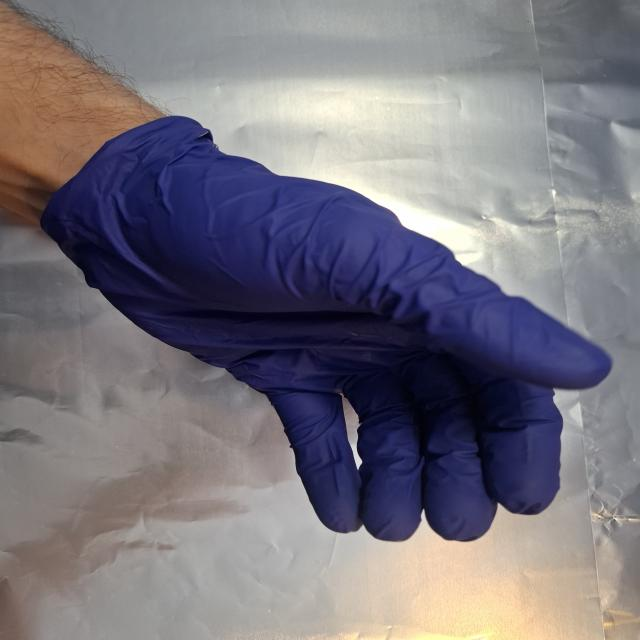glove_on: (45, 121, 618, 546)
